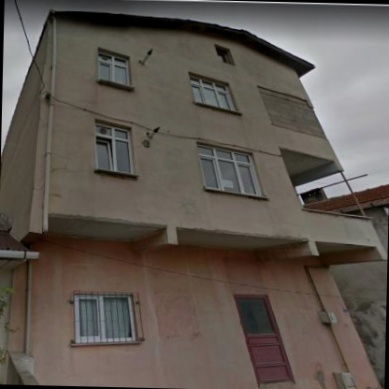door: (232, 296, 294, 382)
